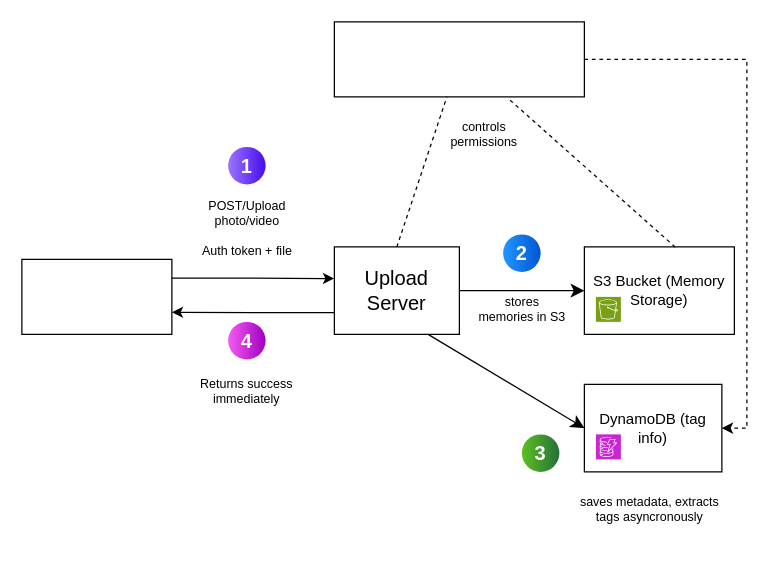
This 779x569 diagram has some shape labels left out. Here are the shapes that lost their labels. From the top down, the centre of each, then its label:
At pixel 458 59: "IAM Roles".
At pixel 96 296: "User's Browser".
